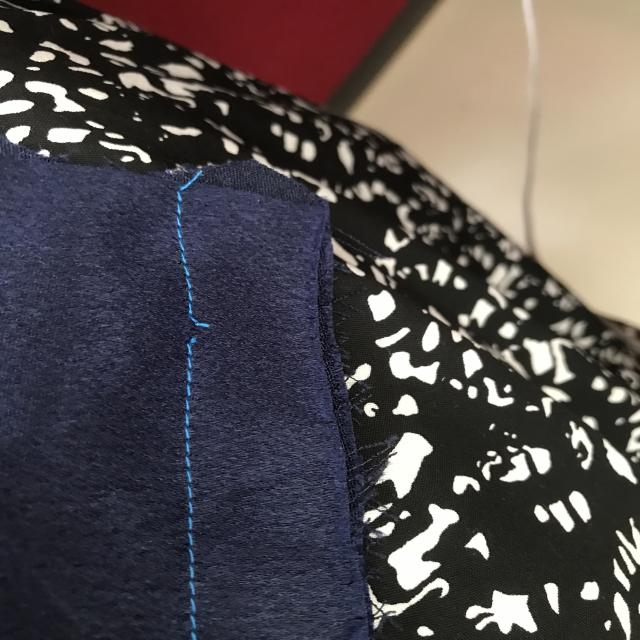broken: (179, 301, 215, 360)
good: (177, 405, 216, 599), (168, 208, 198, 271)
